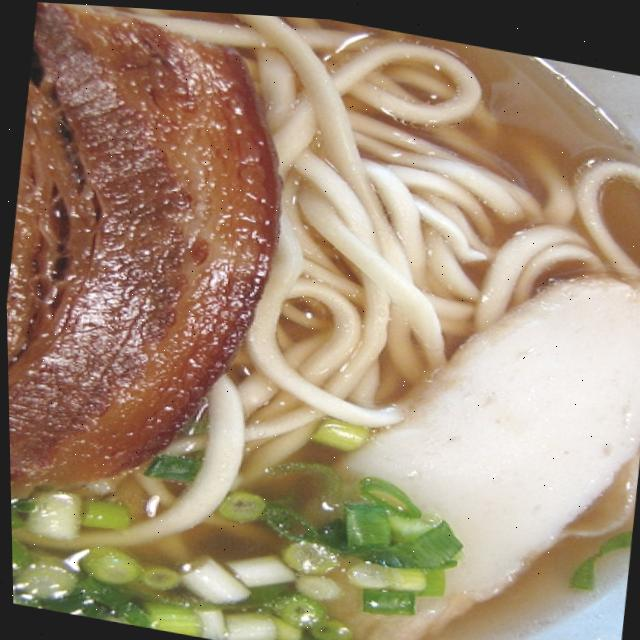面包点心: (291, 174, 640, 640)
